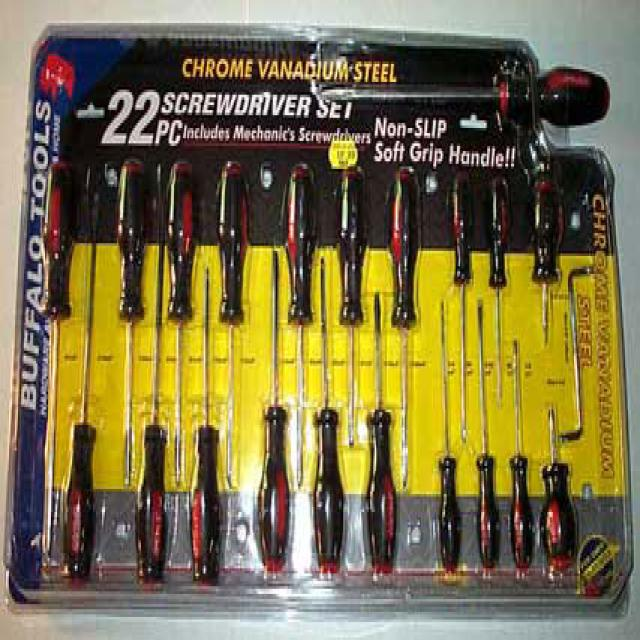screw driver: (378, 145, 439, 498), (102, 154, 152, 507), (277, 167, 327, 502), (211, 151, 258, 505), (154, 161, 200, 490), (31, 172, 69, 550), (443, 162, 492, 454), (517, 162, 570, 346)
